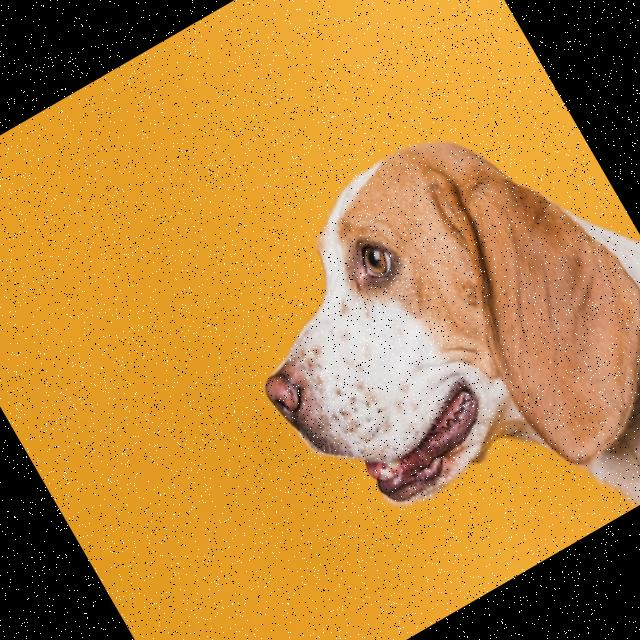Dog: (192, 65, 640, 639)
